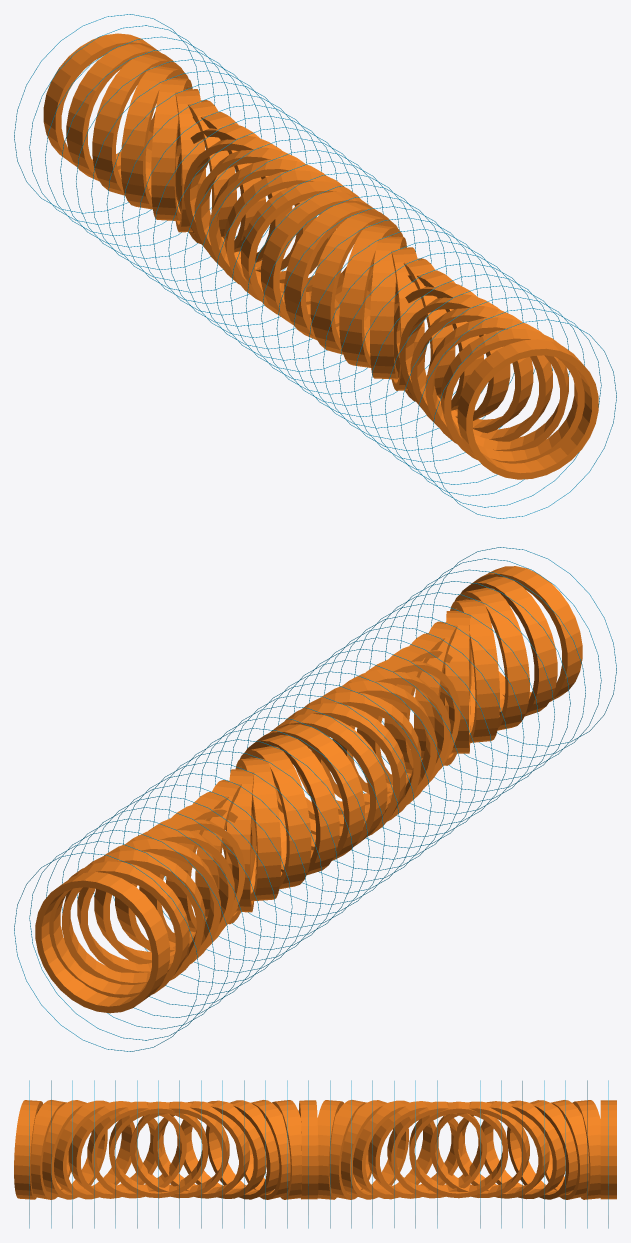
Rendered from tinker.obj.
3 views of the same model, one above another, from view 1: azimuth 30°, elevation 25°; view 2: azimuth 150°, elevation 25°; view 3: azimuth 270°, elevation 25° (orthographic). The views are drawn at different scales.
Visible parts, largest first — view 1: group_0_16089887, group_0_40919; view 2: group_0_16089887, group_0_40919; view 3: group_0_16089887, group_0_40919.
Part boxes in pixels (x1,y1,x2,y2): group_0_16089887: [43, 33, 598, 479]; group_0_40919: [14, 14, 616, 518]; group_0_16089887: [35, 566, 582, 1013]; group_0_40919: [14, 547, 616, 1051]; group_0_16089887: [14, 1100, 616, 1199]; group_0_40919: [29, 1080, 608, 1228].
Size of the model in its own units: 90.2 by 90.2 by 366.
